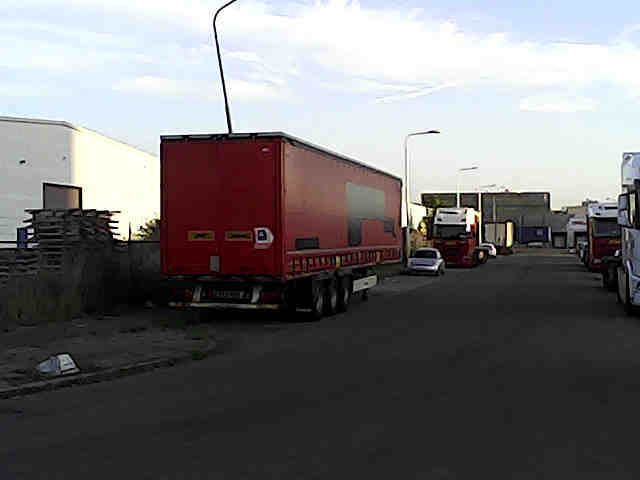container: (161, 134, 401, 280)
